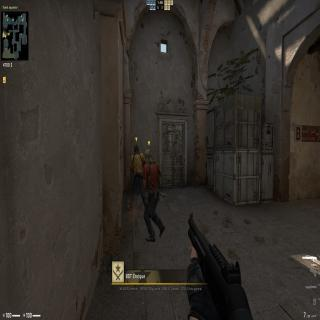T-Head: (144, 148, 152, 164), (134, 144, 140, 154)
